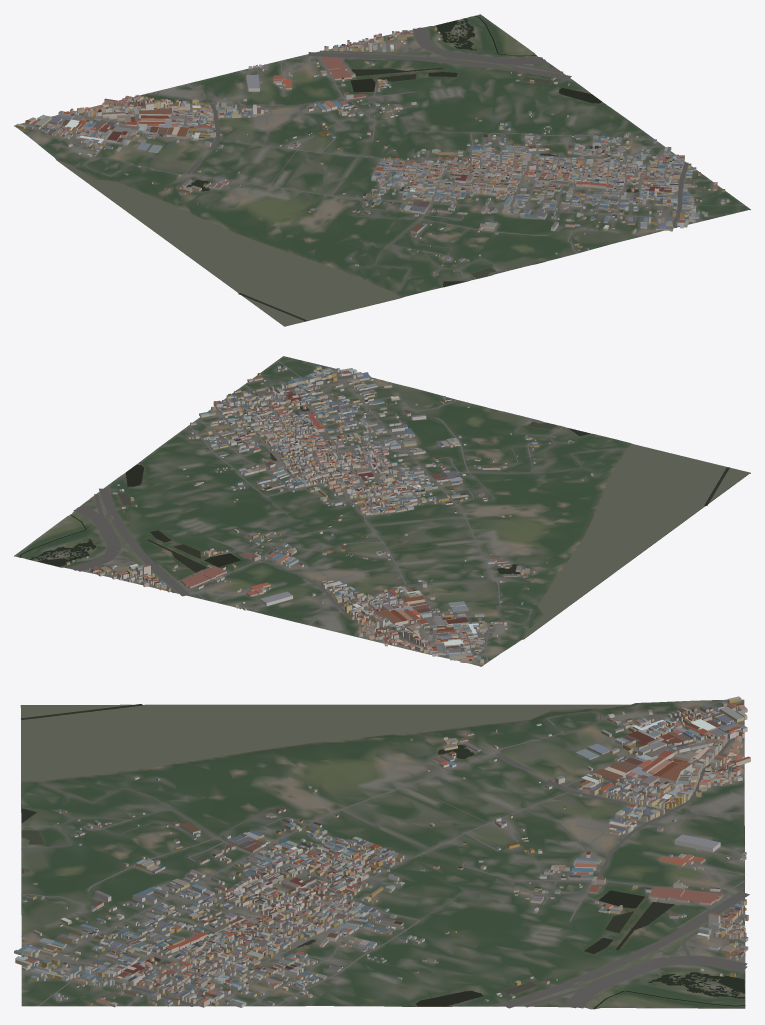
3 views of the same model, one above another, from view 1: azimuth 30°, elevation 25°; view 2: azimuth 150°, elevation 25°; view 3: azimuth 270°, elevation 25° (orthographic). The views are drawn at different scales.
Visible parts, largest first — view 1: ground, buildings, water, roads; view 2: ground, buildings, water, roads; view 3: ground, buildings, water, roads.
Boxes of the visible parts, left/top/right/bottom form: ground: left=14, top=14, right=750, bottom=326; buildings: left=15, top=26, right=729, bottom=275; water: left=57, top=15, right=638, bottom=326; roads: left=20, top=27, right=744, bottom=289; ground: left=14, top=356, right=750, bottom=666; buildings: left=65, top=365, right=593, bottom=665; water: left=19, top=406, right=749, bottom=639; roads: left=70, top=360, right=619, bottom=661; ground: left=20, top=699, right=745, bottom=1009; buildings: left=14, top=696, right=750, bottom=1007; water: left=21, top=704, right=745, bottom=1008; roads: left=21, top=699, right=749, bottom=1008.
Size of the model in its own units: 1413 by 37.75 by 1428.
